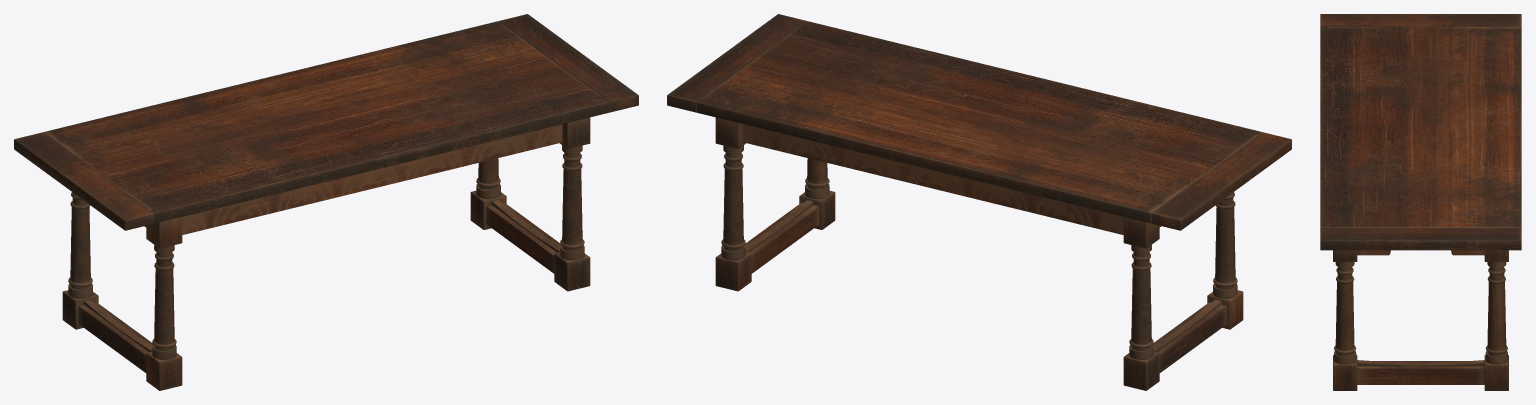
File: table.glb
The picture shows the model from 3 angles, left to right: view 1: azimuth 30°, elevation 25°; view 2: azimuth 150°, elevation 25°; view 3: azimuth 270°, elevation 25°; orthographic projection. The views are drawn at different scales.
Parts seen in each view (by area): view 1: Cube; view 2: Cube; view 3: Cube.
Part boxes in pixels (<box>): Cube: <box>14,14,638,390</box>; Cube: <box>667,14,1291,390</box>; Cube: <box>1320,14,1521,390</box>.
Size of what is drawn, in the model's own units: 7.15 by 2.47 by 2.68.
1 material, 1 textured.
